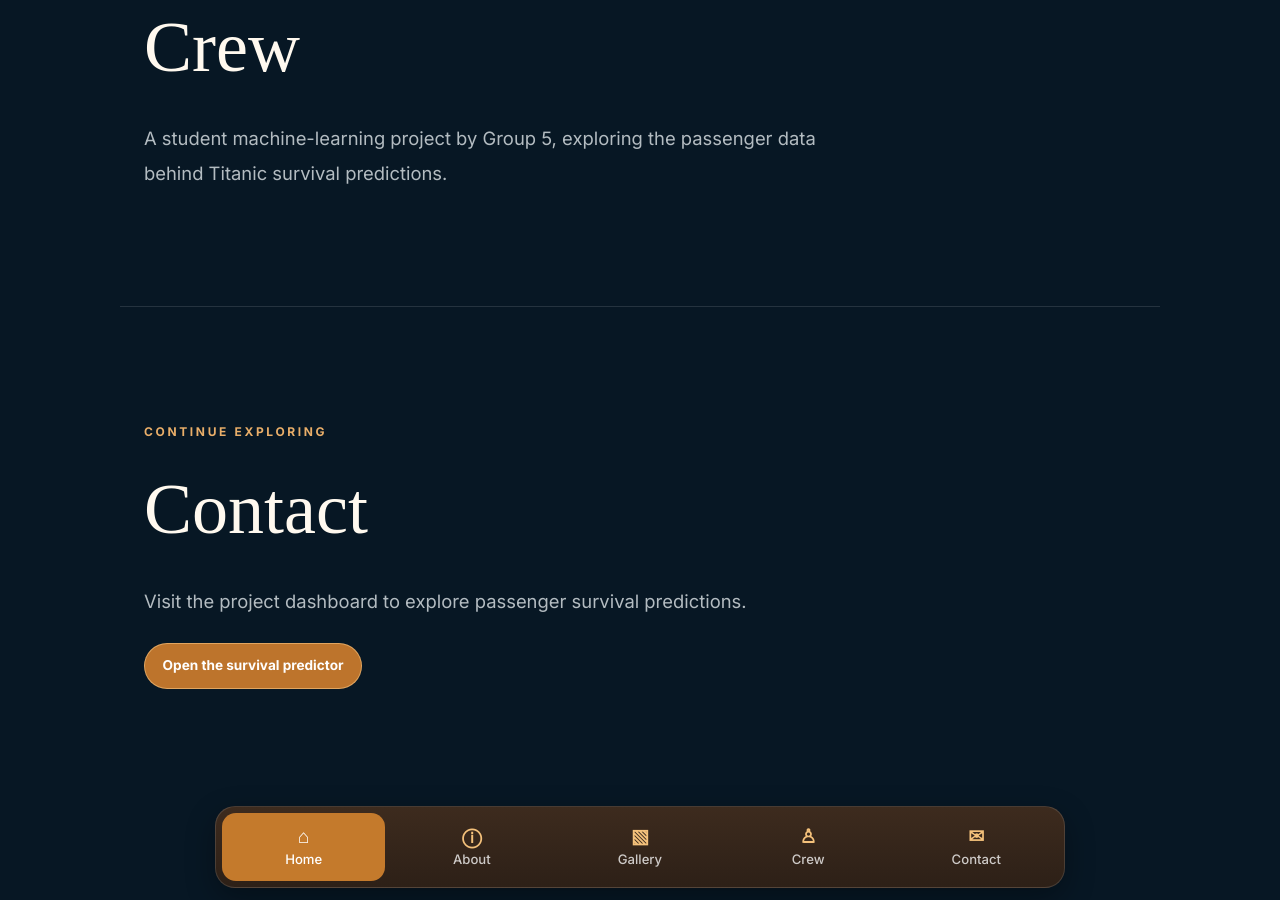
restores a saved favorite and allows it to be removed
The image size is (1280, 900).
(page scrolled)
Click the button "Open the survival predictor": (253, 666) left=144, top=643, right=362, bottom=689
(page scrolled)
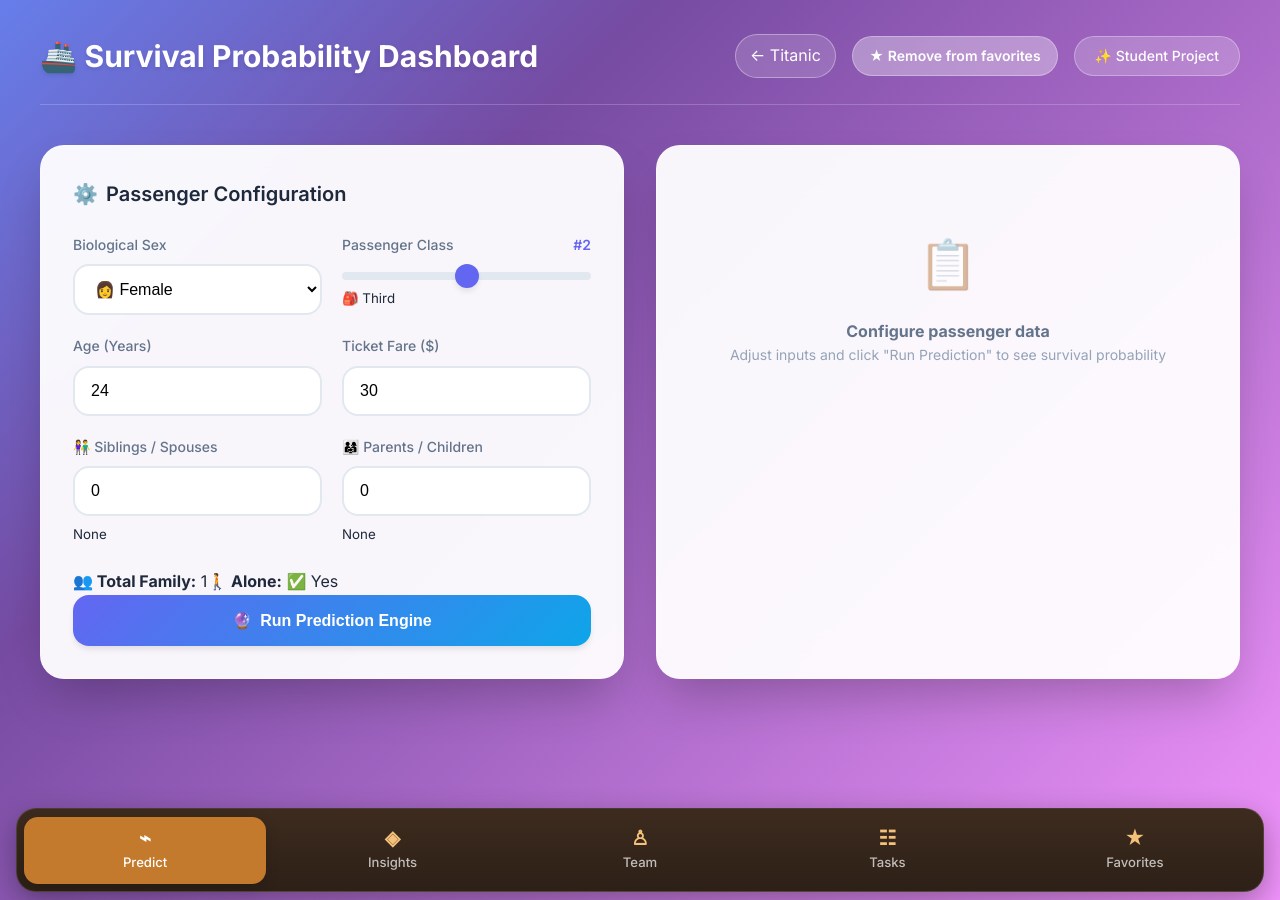
Click the button "★ Favorites": (1135, 850) left=1014, top=817, right=1256, bottom=884
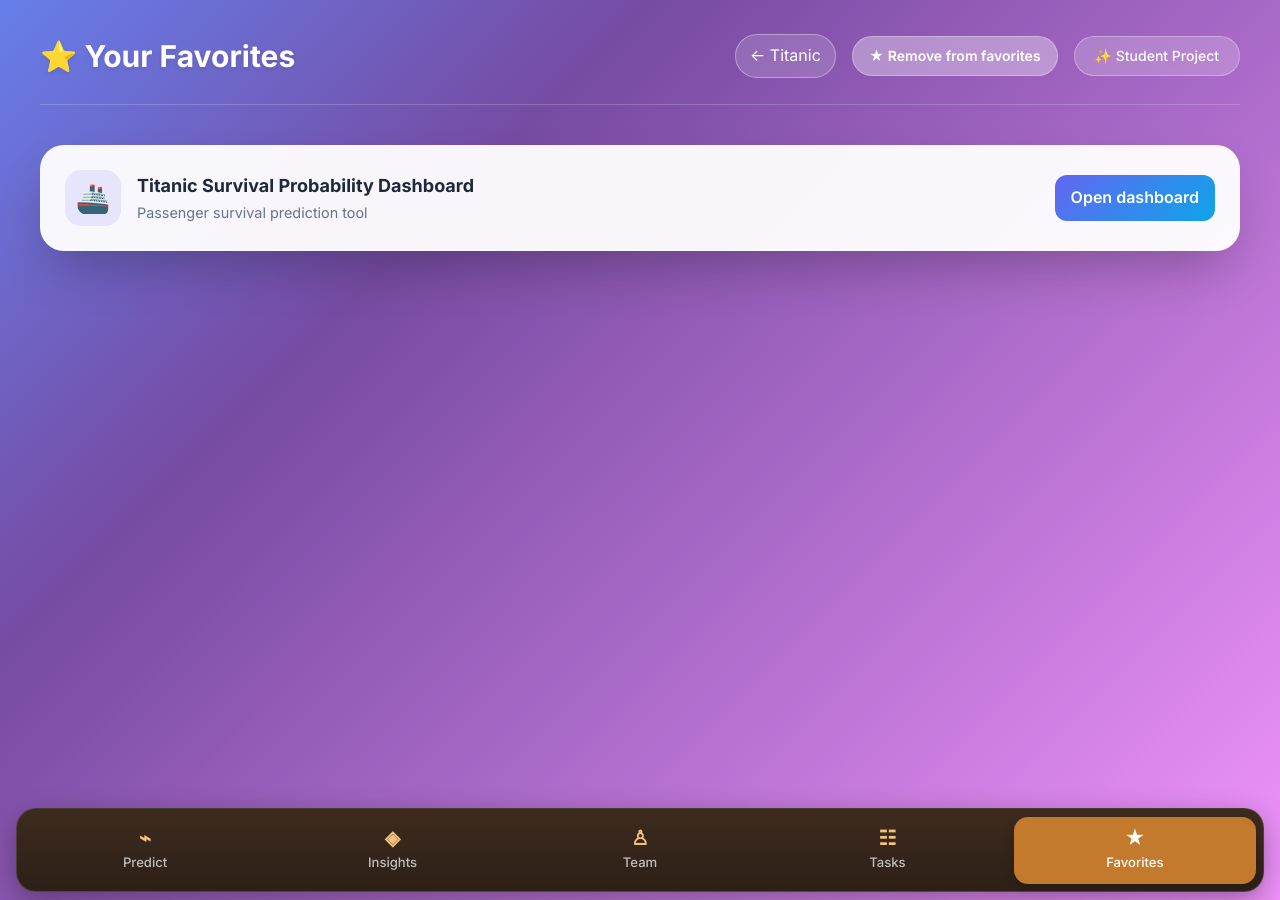
Check: the heading "Titanic Survival Probability Dashboard" is shown, box left=137, top=175, right=474, bottom=196
Click the button "★Remove from favorites": (955, 56) left=852, top=36, right=1058, bottom=76
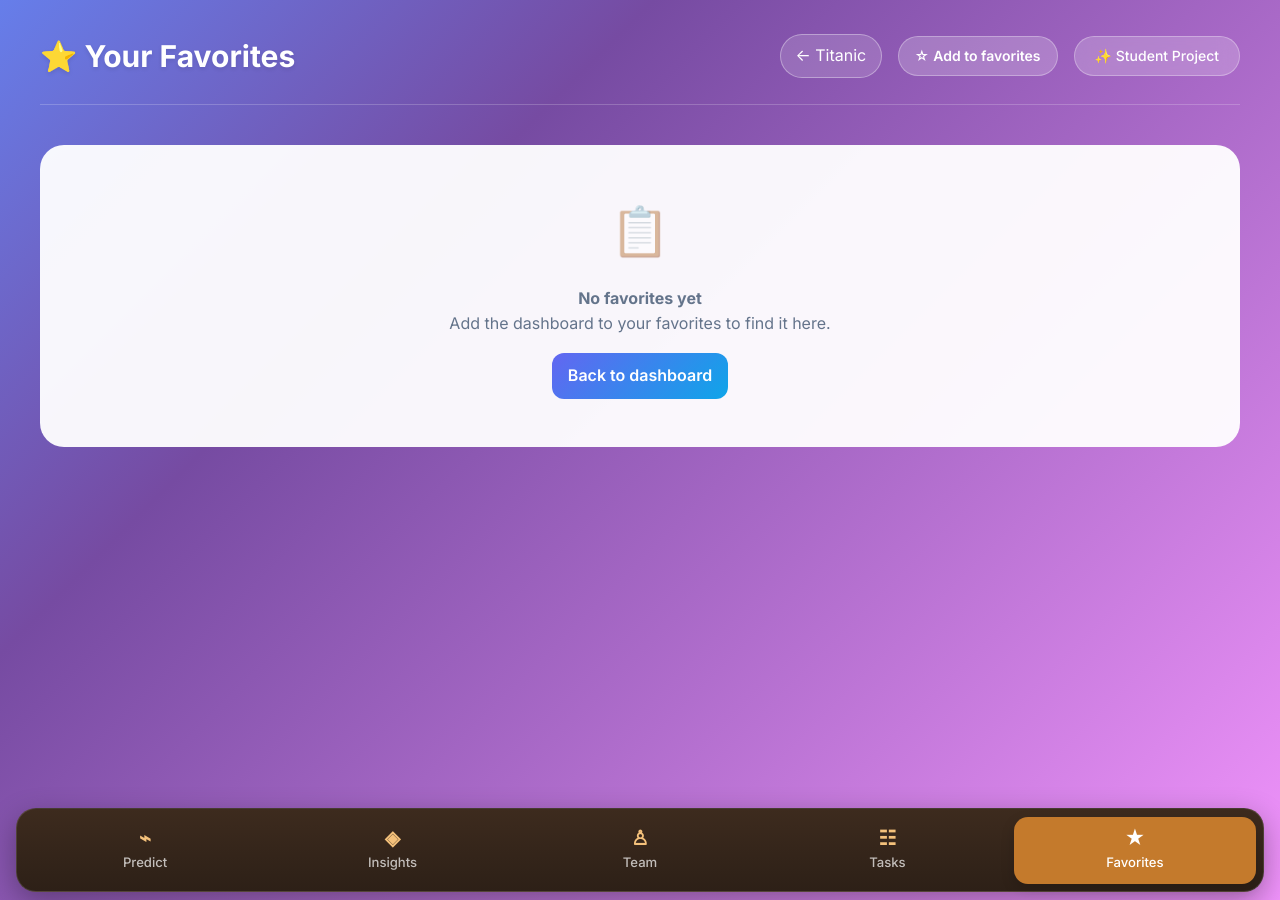
Check: the text "No favorites yet" is shown, box left=578, top=288, right=702, bottom=308
